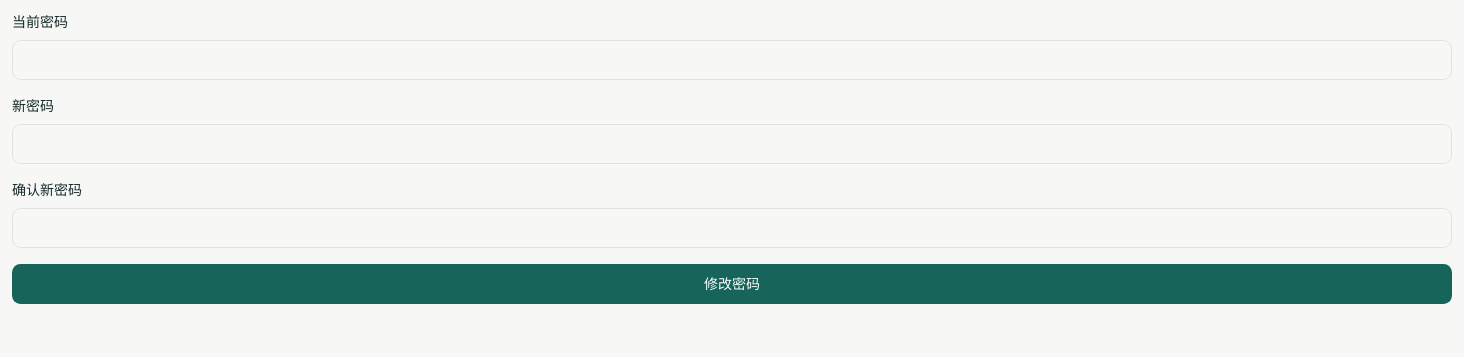
Test: change password form › shows a mismatch before sending the request
The width and height of the screenshot is (1464, 357).
Type "old-password" into the password field labelled "当前密码" at (732, 60), box x1=12 y1=40 x2=1452 y2=80
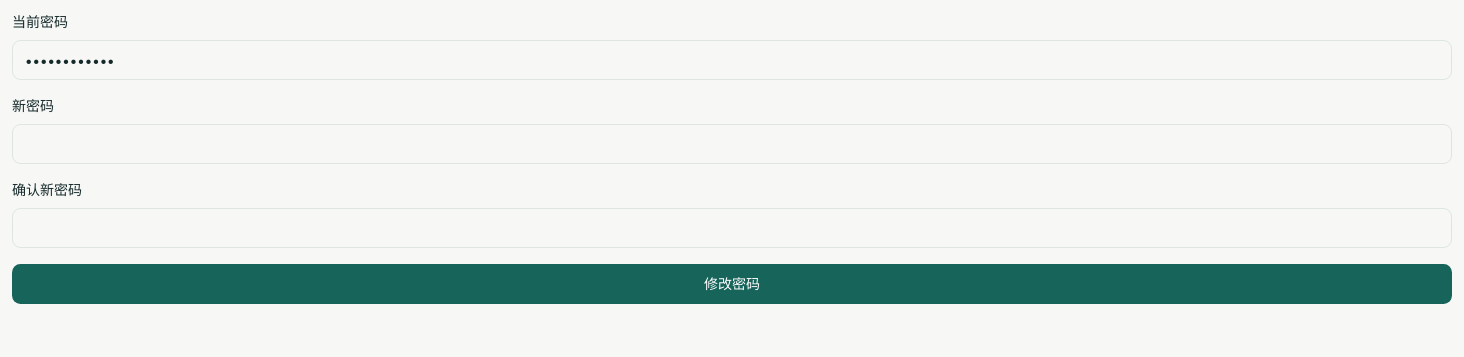
Type "new-password-123" into the password field labelled "新密码" at (732, 144), box x1=12 y1=124 x2=1452 y2=164
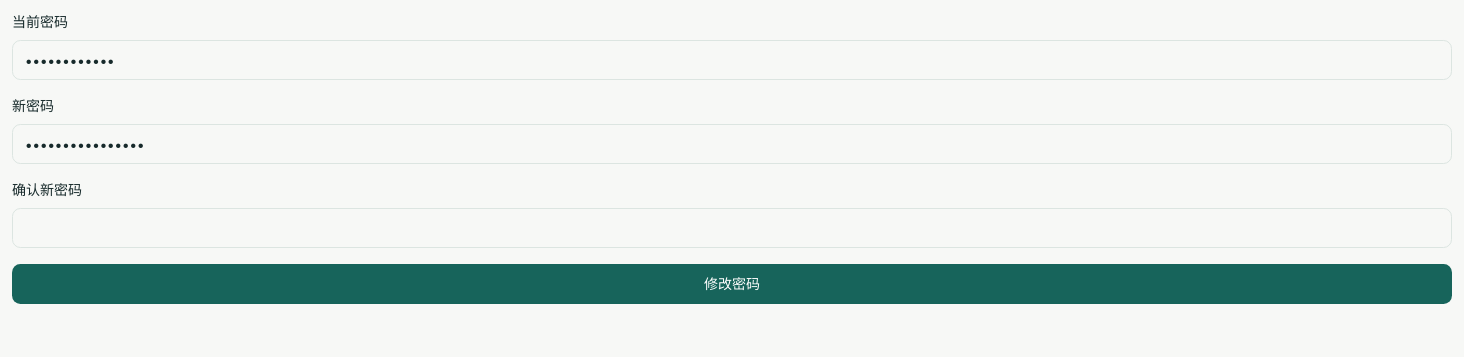
Type "different-12345" into the password field labelled "确认新密码" at (732, 228), box x1=12 y1=208 x2=1452 y2=248
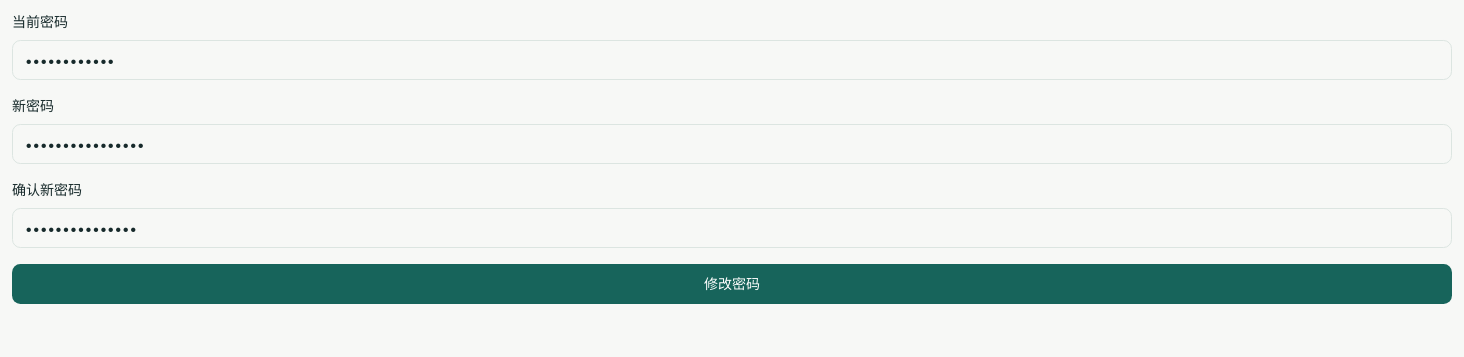
Submit the form "修改密码"
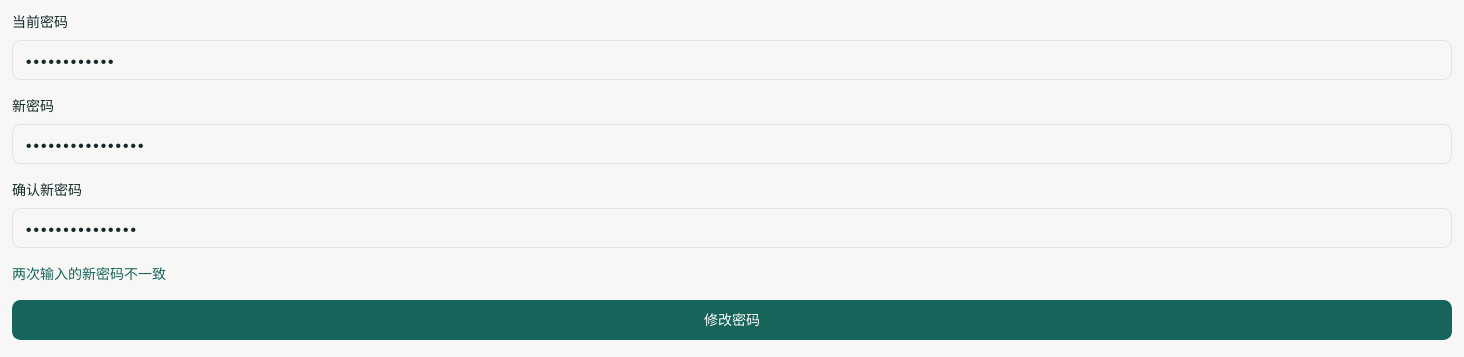
Expected: the message shows "不一致", x1=12 y1=265 x2=166 y2=282
